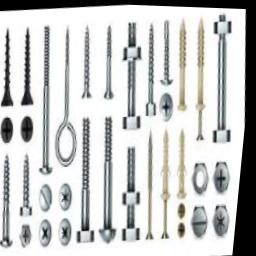Non-corroded-Bolts: (80, 116, 99, 242)
